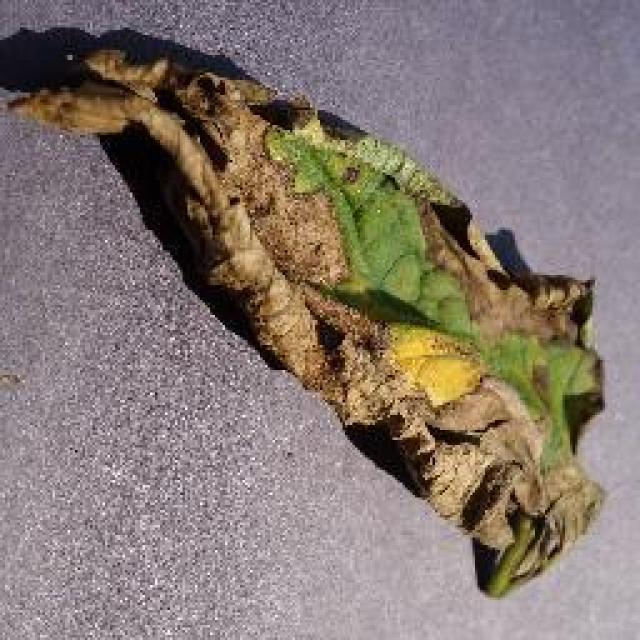Tomato Late Blight: (45, 0, 603, 480)
